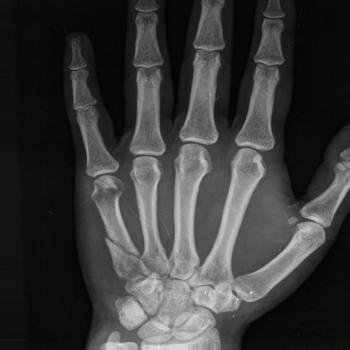Fracture: (102, 233, 142, 265)
